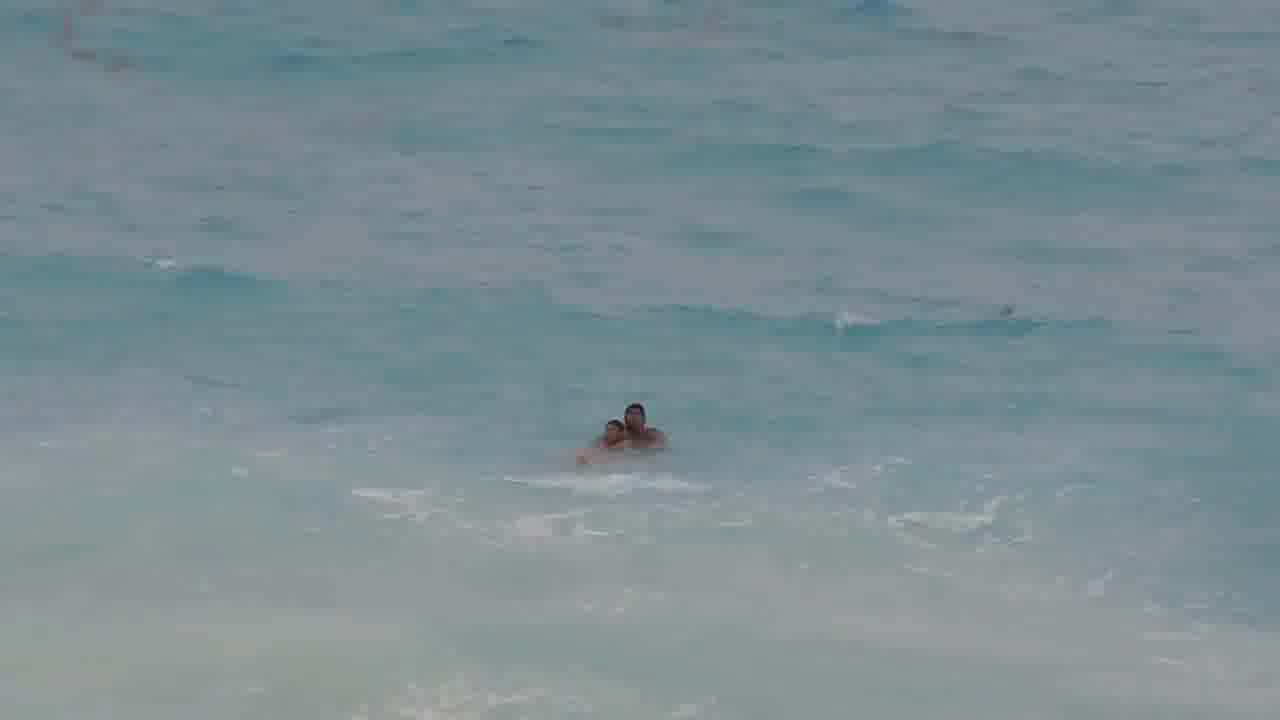swimmer: (618, 398, 672, 456), (575, 415, 630, 465)
